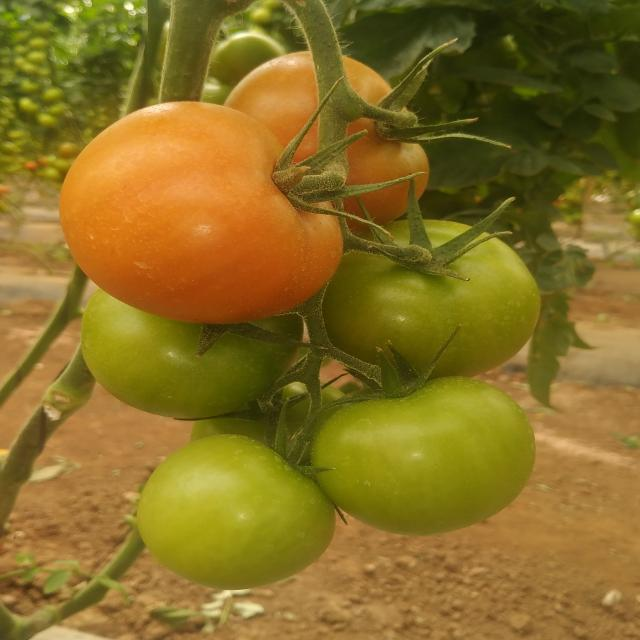Ripe Tomato: (48, 102, 334, 312)
Unripe Tomato: (320, 381, 538, 532), (336, 220, 544, 376), (142, 431, 326, 577), (73, 302, 300, 412)
